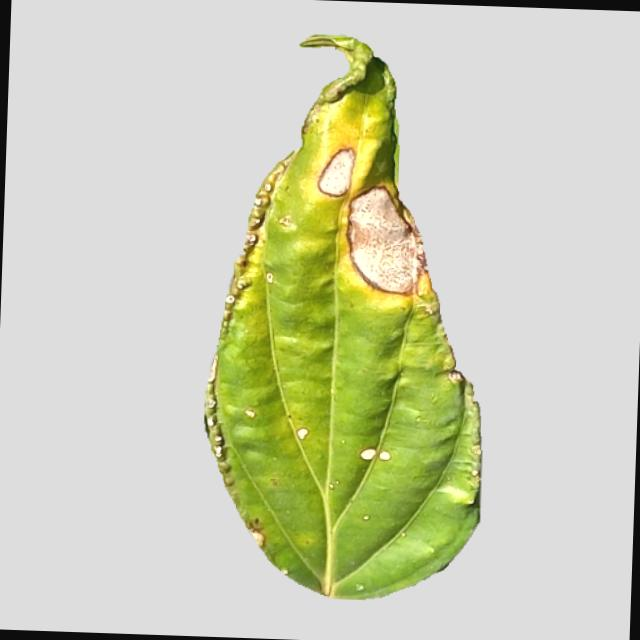leaf-blight: (198, 20, 504, 610)
